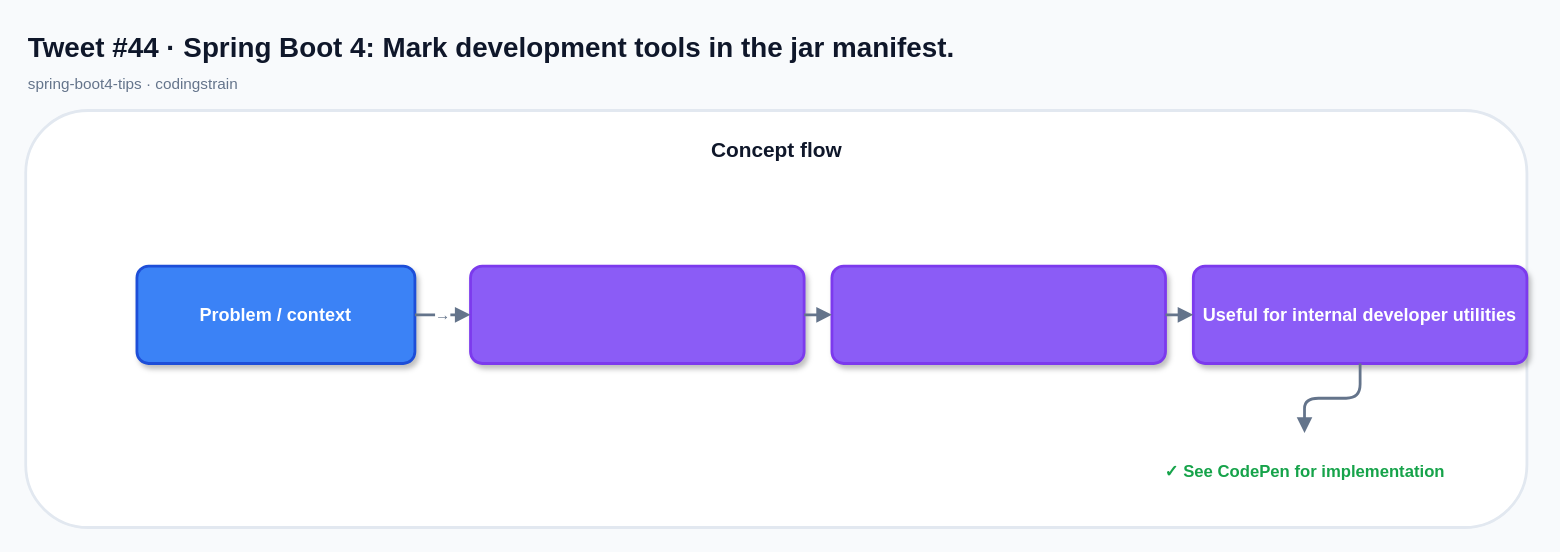
Some shapes in this 1560 by 552 pixel diagram are drawn without their labels. Each missing label, with the centre of its shape:
`Spring-Boot-Jar-Type: development-tool`: (x=638, y=316)
Keeps those deps out of production uber jars: (x=999, y=316)
